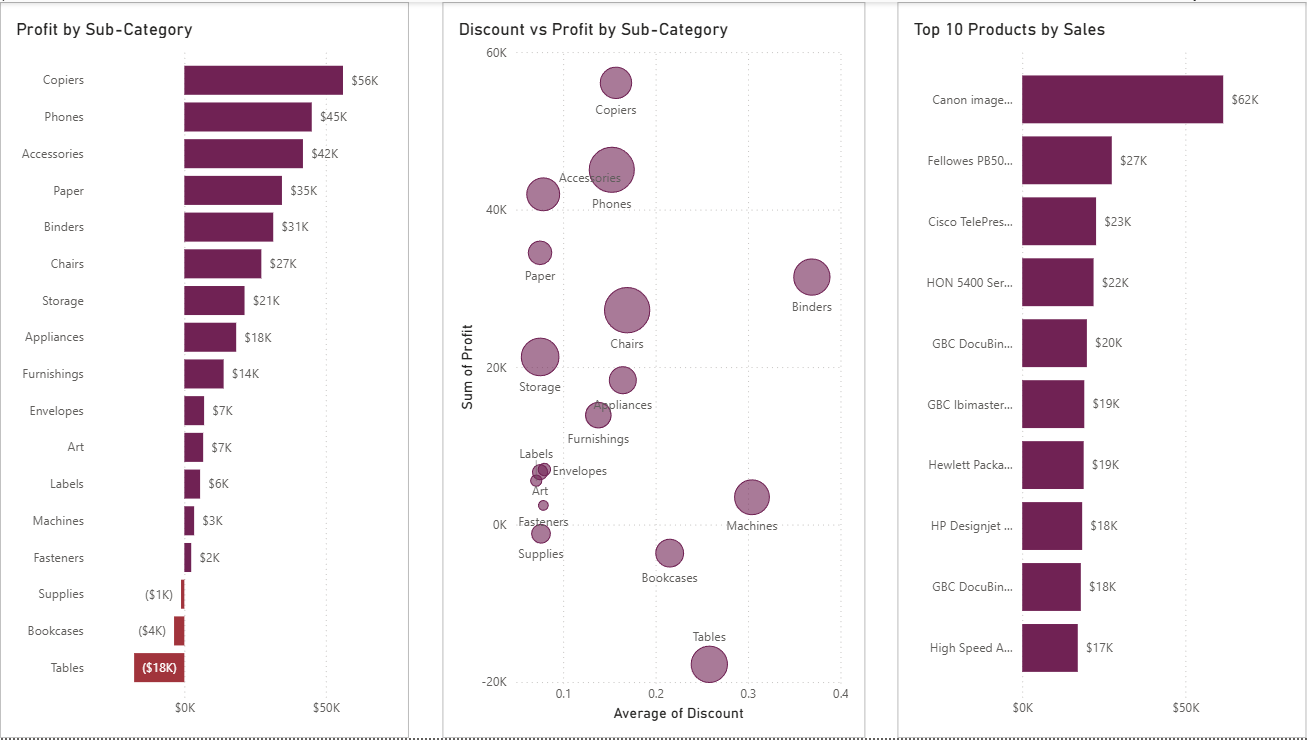

The dashboard page shown, as its layout file describes it:
{"tool":"powerbi","page":{"name":"Product Performance","canvas":[1280,720],"ordinal":1},"visuals":[{"type":"clusteredBarChart","title":"Profit by Sub-Category","fields":{"Category":["Superstore.Sub-Category"],"Y":["Superstore.Total Profit"]},"box":[9.8,0,434.1,720.2],"z":0},{"type":"scatterChart","title":"Discount vs Profit by Sub-Category","fields":{"X":["Avg(Superstore.Discount)"],"Y":["Sum(Superstore.Profit)"],"Category":["Superstore.Sub-Category"],"Size":["Superstore.Total Sales"]},"box":[453.7,0,434.1,720.2],"z":1},{"type":"clusteredBarChart","title":"Top 10 Products by Sales","fields":{"Category":["Superstore.Product Name"],"Y":["Superstore.Total Sales"]},"box":[898,0,382,720],"z":2}]}

Visuals, with their boxes in screenshot pixels (x1, y1, x2, y2), scaled from the page's 1280x720 canvas onto the 1307x740 screenshot:
"Profit by Sub-Category" clusteredBarChart: left=10, top=0, right=453, bottom=739
"Discount vs Profit by Sub-Category" scatterChart: left=463, top=0, right=907, bottom=739
"Top 10 Products by Sales" clusteredBarChart: left=917, top=0, right=1306, bottom=739
